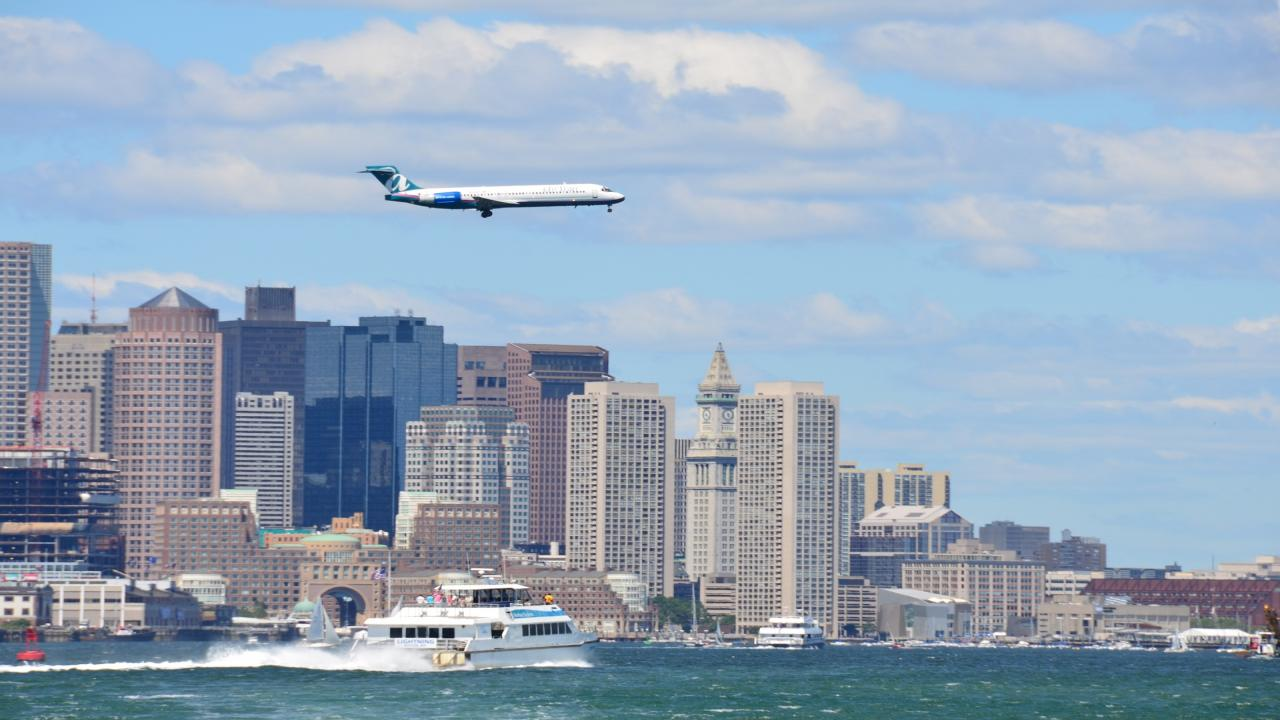Airplane: (351, 154, 636, 227)
